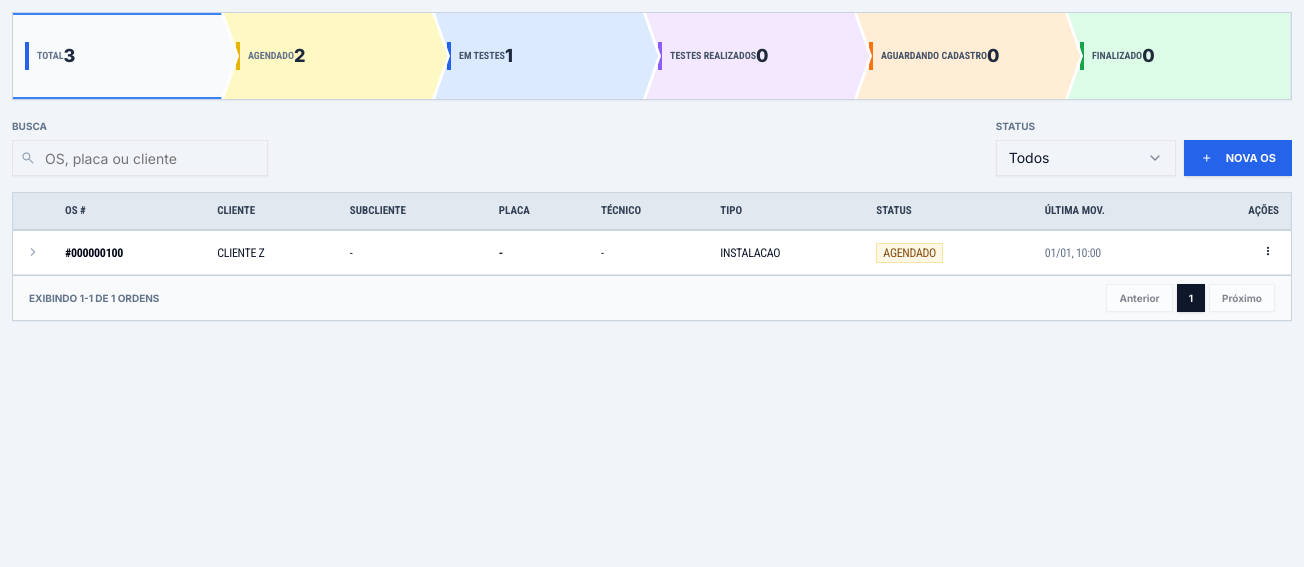
OrdensServicoPage (integração) › fluxo: pipeline, busca e expansão com detalhe
Expected: the element with test id "ordens-servico-page" is shown, [12, 12, 1292, 321]
Expected: the button with test id "ordens-servico-pipeline-TODOS" shows "3", [13, 13, 236, 99]
Click the button with test id "ordens-servico-pipeline-EM_TESTES" at (546, 56), box [435, 13, 658, 99]
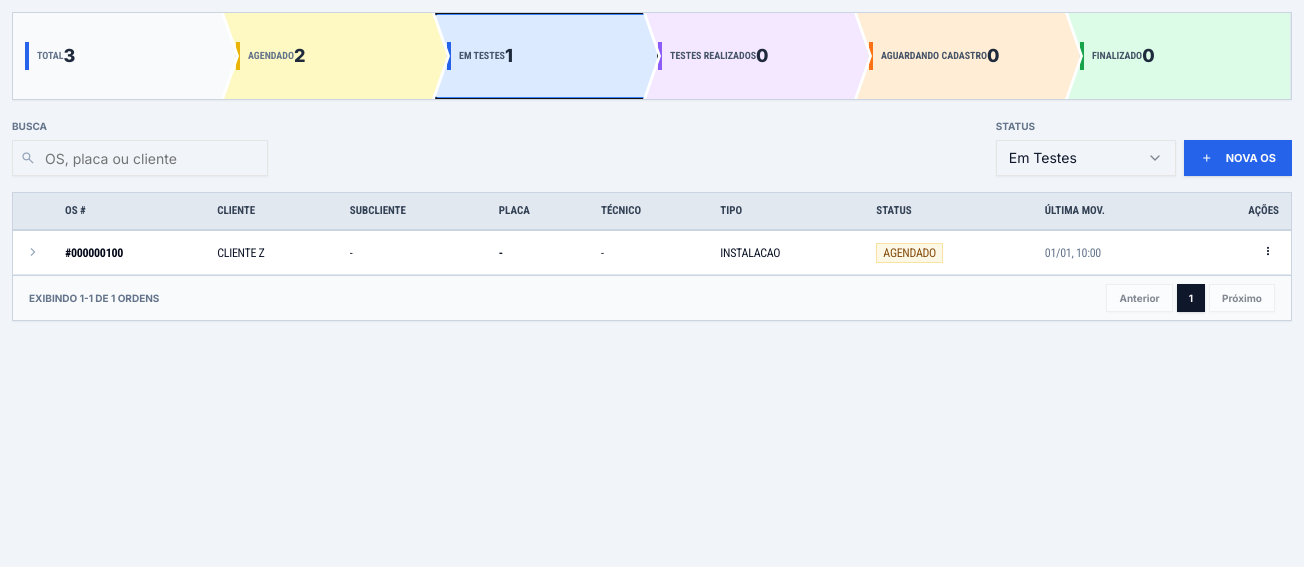
Type "Z" into the field with test id "ordens-servico-busca-input" at (140, 158), box [12, 140, 268, 176]
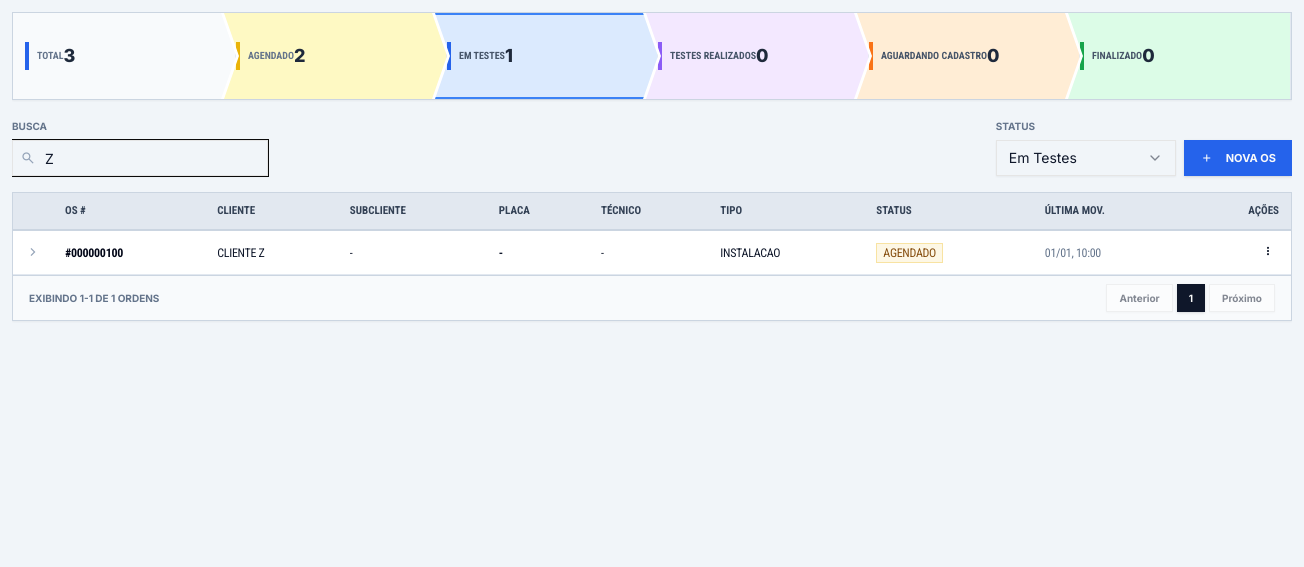
Click the row with test id "ordens-servico-row-10" at (652, 252), box [13, 230, 1291, 274]
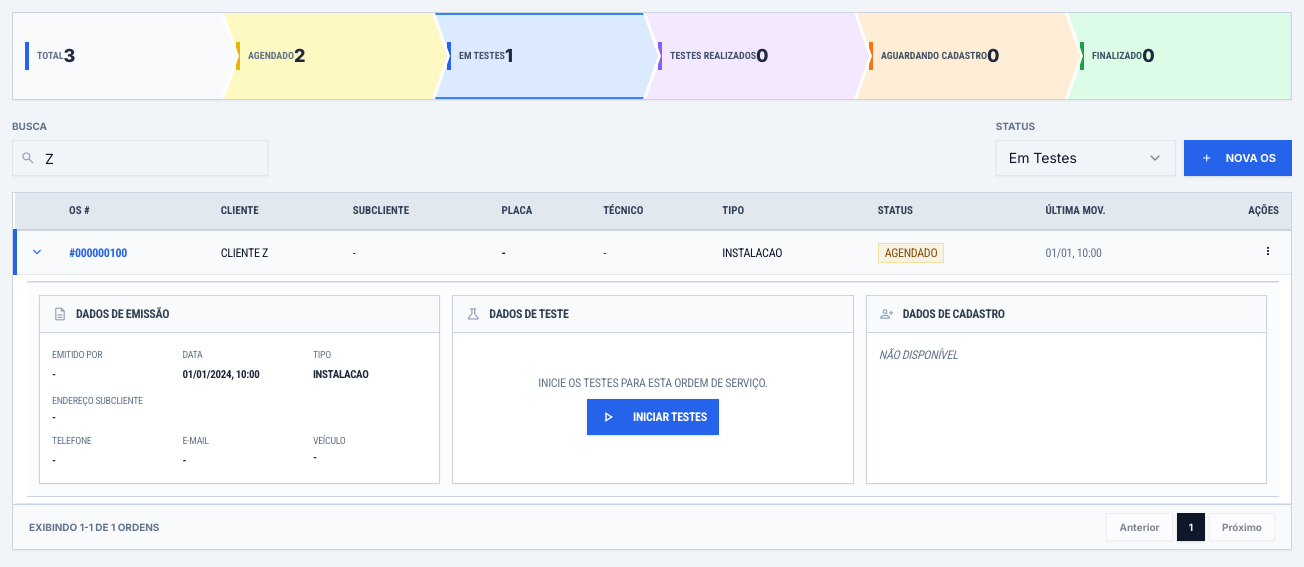
Now the element with test id "ordens-servico-detalhe-panel" is shown, box [27, 282, 1279, 496]
Now the heading "Dados de Emissão" is shown, box [76, 306, 169, 322]
